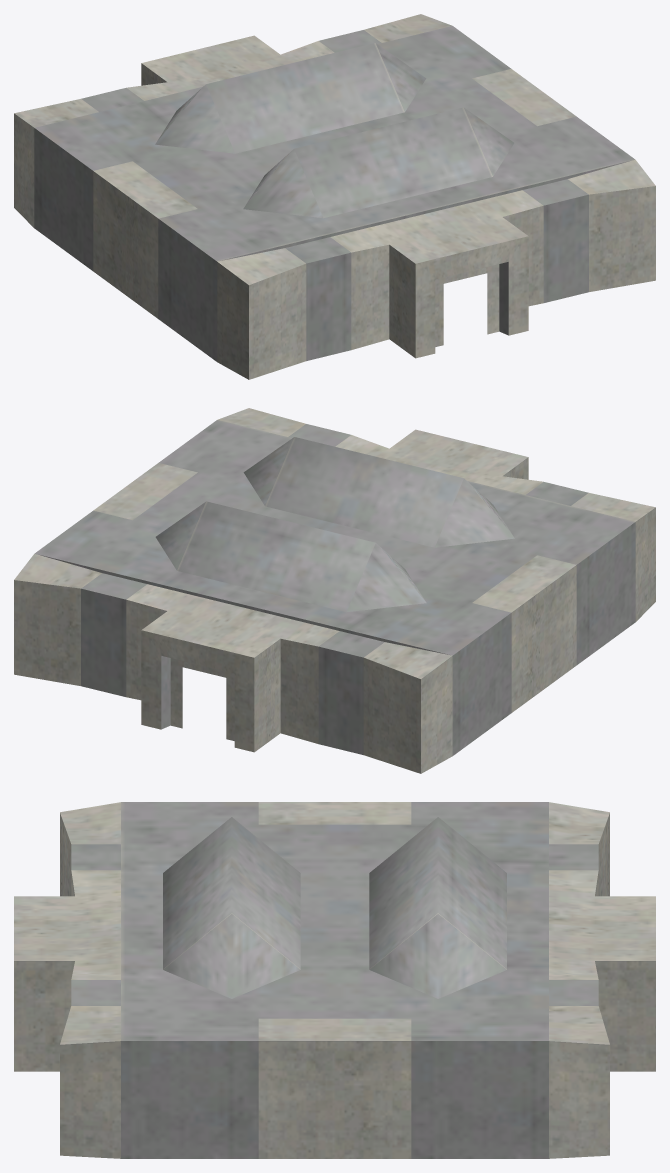
The model's file is mun_all_hospital_s02_r0_mesh_l2.fbx.
3 views of the same model, one above another, from view 1: azimuth 30°, elevation 25°; view 2: azimuth 150°, elevation 25°; view 3: azimuth 270°, elevation 25° (orthographic). The views are drawn at different scales.
Parts seen in each view (by area): view 1: mesh_node; view 2: mesh_node; view 3: mesh_node.
Part boxes in pixels (left/top/right/bottom): mesh_node: left=14, top=14, right=655, bottom=379; mesh_node: left=14, top=408, right=655, bottom=773; mesh_node: left=14, top=802, right=655, bottom=1158.
Bounding box in the file's own units: 37 × 12.56 × 42.
Materials: 1 (1 with a texture image).
